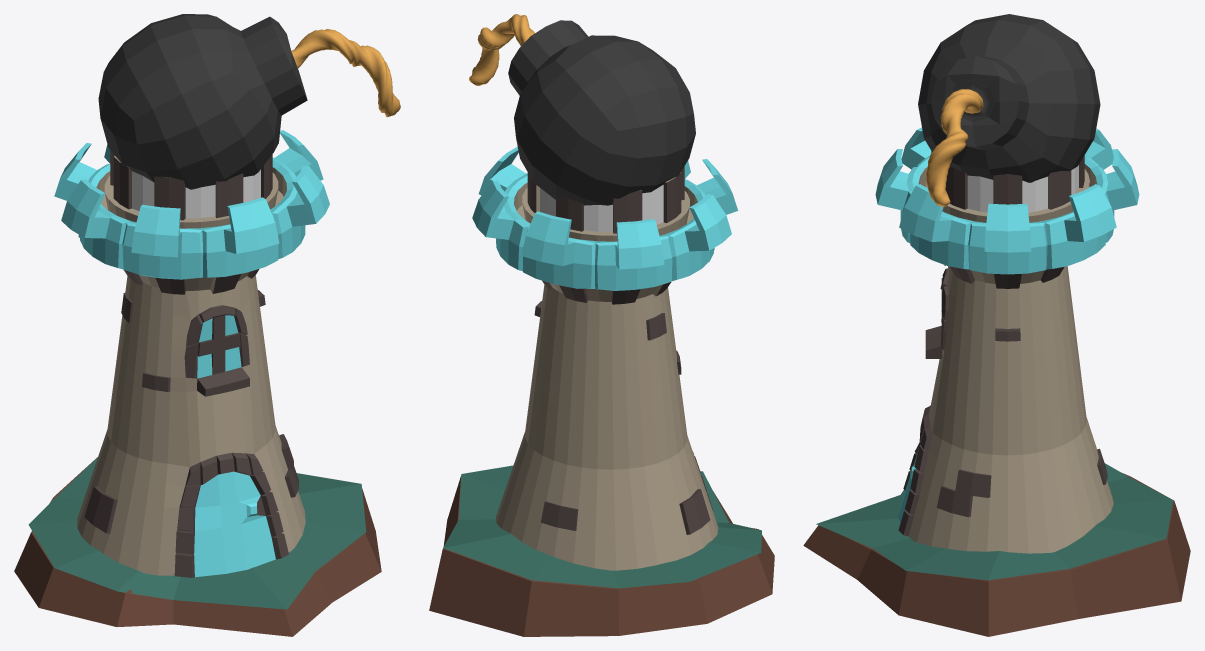
Rendered from bomba_kule_hava.fbx.
3 renders of one model, left to right at view 1: azimuth 30°, elevation 25°; view 2: azimuth 150°, elevation 25°; view 3: azimuth 270°, elevation 25°, orthographic. The views are drawn at different scales.
Parts seen in each view (by area): view 1: Cylinder.010, cımen.009, Circle.002; view 2: Cylinder.010, Circle.002, cımen.009; view 3: Cylinder.010, Circle.002, cımen.009.
Boxes of the visible parts, x1=… form: Cylinder.010: x1=54, y1=14, x2=400, y2=577; cımen.009: x1=28, y1=457, x2=366, y2=609; Circle.002: x1=14, y1=457, x2=381, y2=636; Cylinder.010: x1=469, y1=14, x2=738, y2=570; Circle.002: x1=429, y1=476, x2=774, y2=636; cımen.009: x1=443, y1=465, x2=761, y2=588; Cylinder.010: x1=875, y1=14, x2=1139, y2=553; Circle.002: x1=803, y1=473, x2=1190, y2=636; cımen.009: x1=816, y1=463, x2=1173, y2=580.
Bounding box in the file's own units: 488 × 754 × 496.
